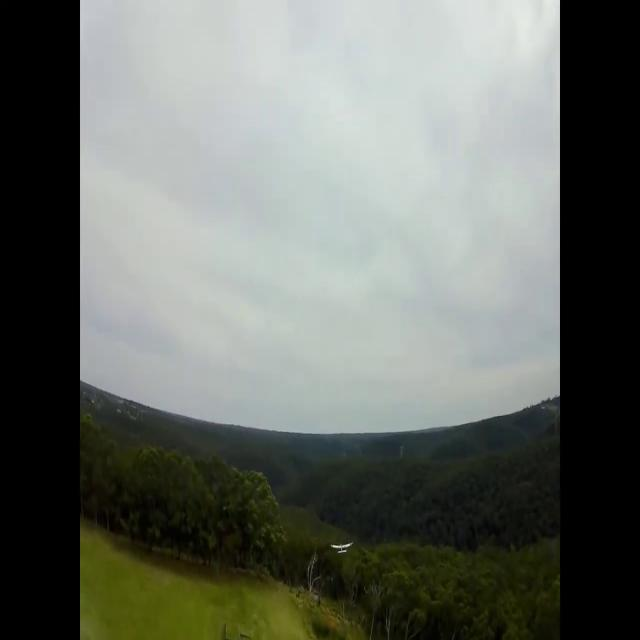iha: (332, 540, 354, 556)
